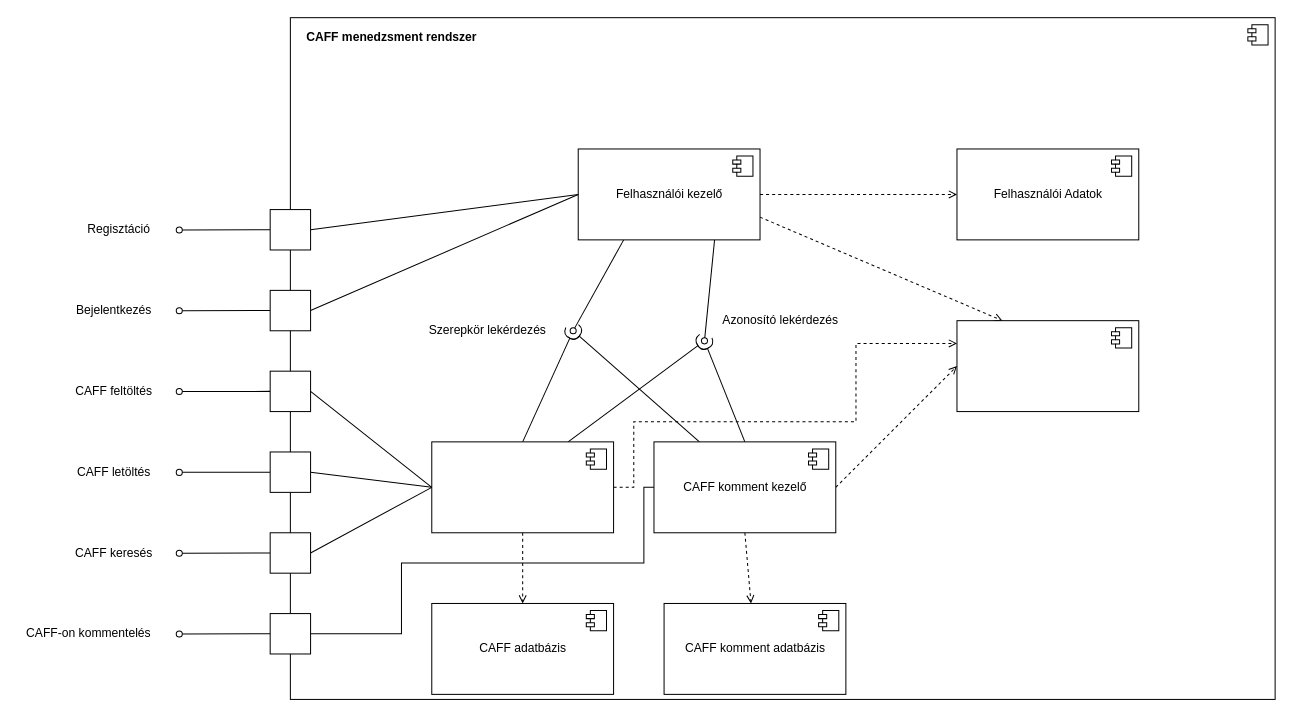
Some shapes in this 1293 by 717 pixel diagram are drawn without their labels. Each missing label, with the centre of its shape:
"CAFF kezelő" goes at (522,487).
"Napló" goes at (1047,366).
